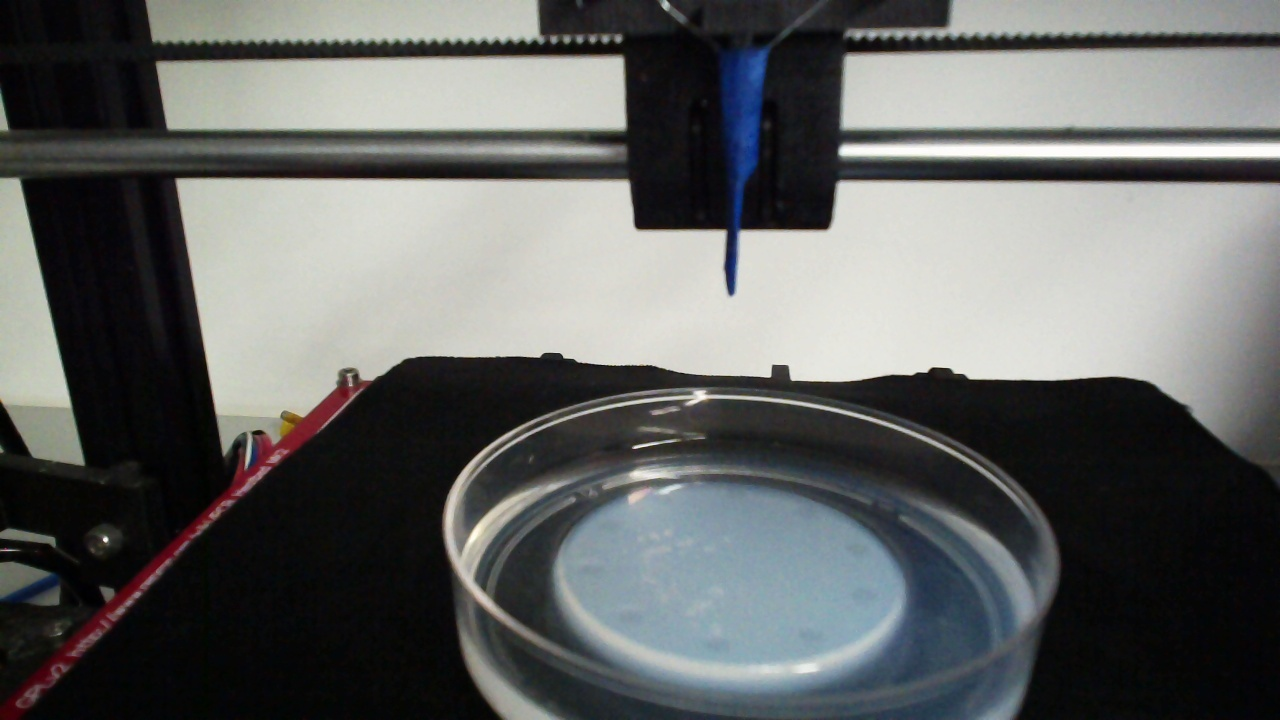groove: (613, 606, 647, 630), (847, 585, 878, 610), (790, 500, 821, 525), (575, 559, 604, 582), (704, 634, 732, 657), (722, 481, 752, 502), (843, 538, 870, 561), (794, 625, 823, 646), (598, 515, 625, 537)
needle: (726, 51, 766, 296)
